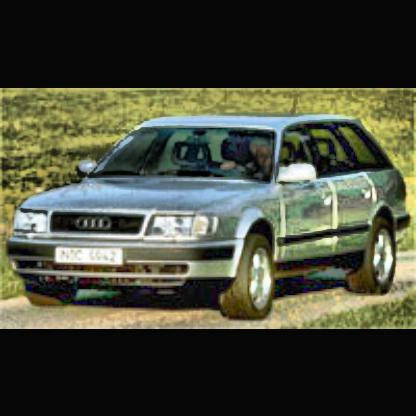Audi 100 Wagon 1994: (8, 94, 416, 324)
